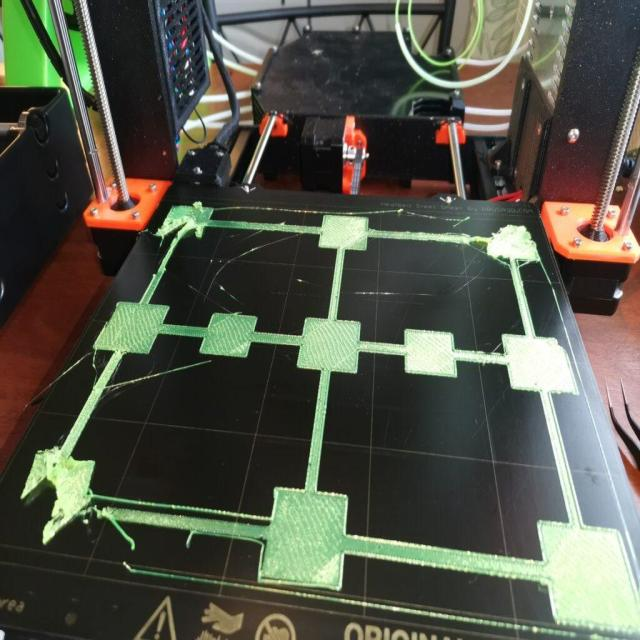spaghetti: (18, 452, 139, 562), (158, 206, 205, 242)
